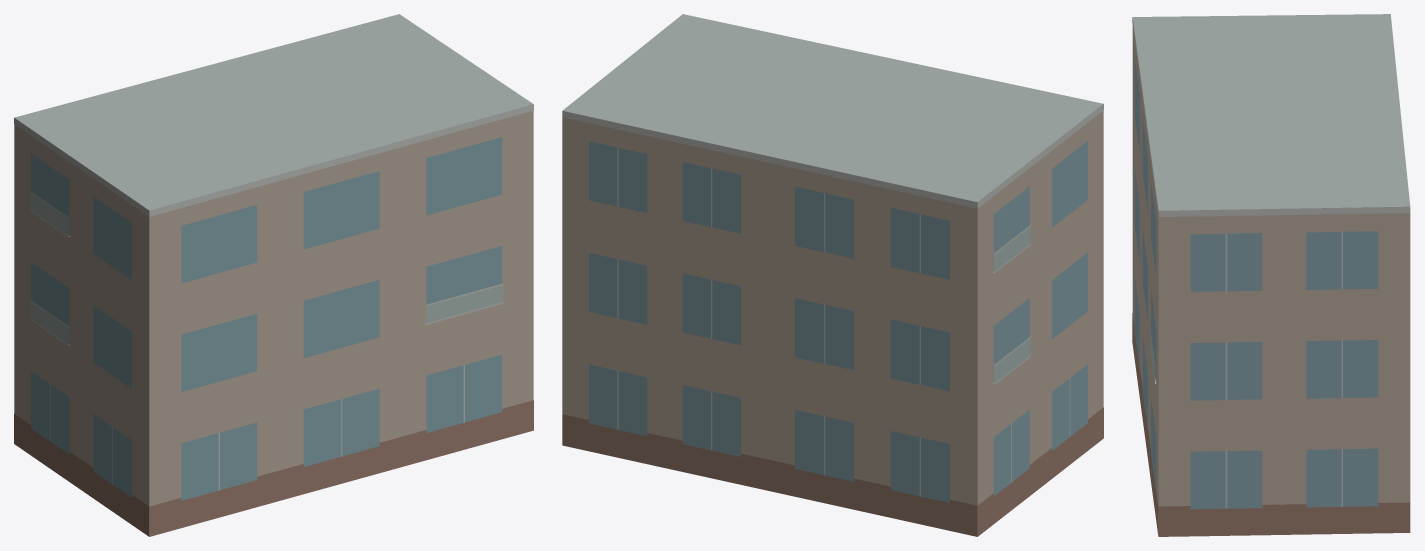
File: survey-upis-32922404.glb
3 views of the same model, side by side, from view 1: azimuth 30°, elevation 25°; view 2: azimuth 150°, elevation 25°; view 3: azimuth 270°, elevation 25° (orthographic). The views are drawn at different scales.
Visible parts, largest first — view 1: survey-upis-32922404.tmp; view 2: survey-upis-32922404.tmp; view 3: survey-upis-32922404.tmp.
Boxes of the visible parts, bbox=[...] form: survey-upis-32922404.tmp: bbox=[14, 14, 533, 536]; survey-upis-32922404.tmp: bbox=[562, 14, 1103, 536]; survey-upis-32922404.tmp: bbox=[1132, 14, 1410, 536].
Size of the model in its own units: 16.24 by 12.54 by 9.69.
